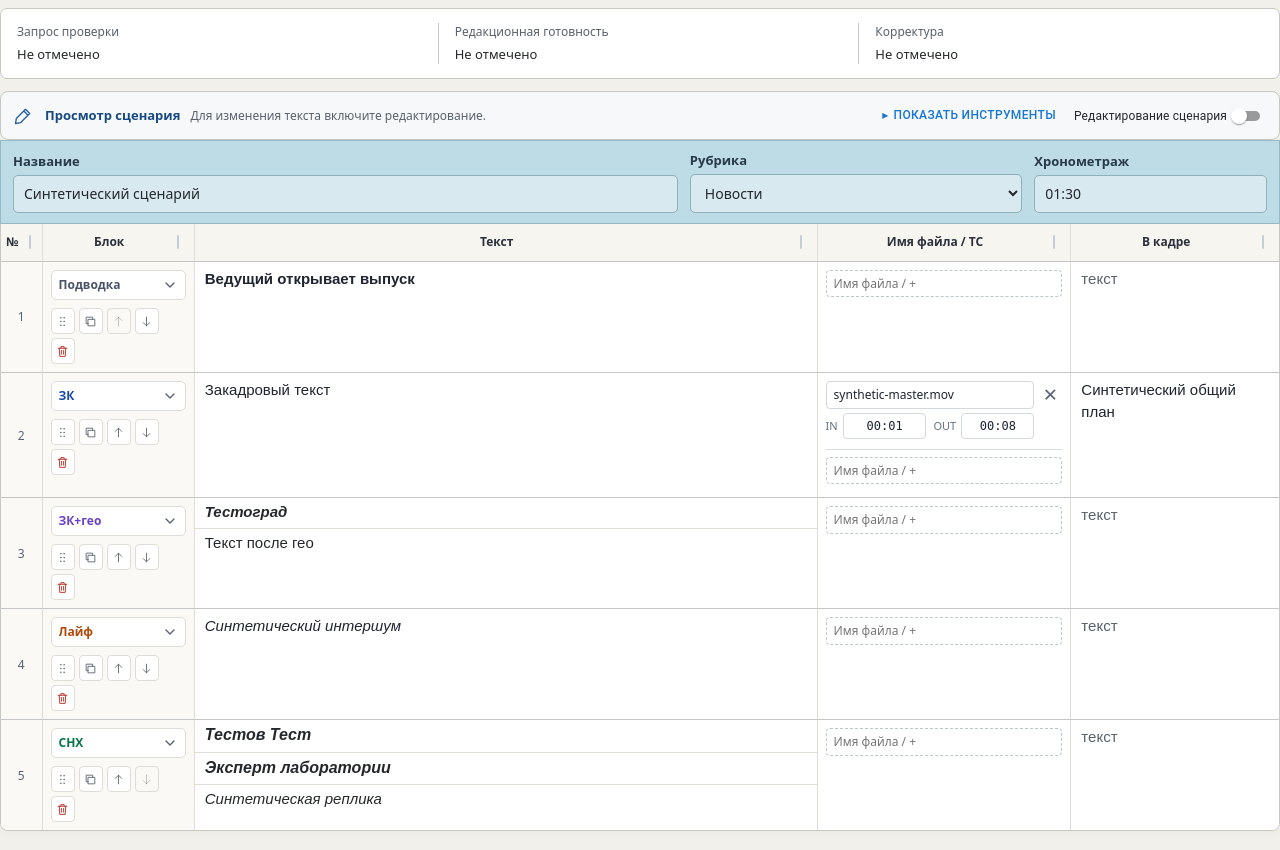
Test: ScenarioEditor current behavior characterization › preserves compact row selection, bulk delete and type-specific add buttons
The image size is (1280, 850).
Click the switch labelled "Редактирование сценария". click: (1170, 116)
box: [1074, 104, 1267, 128]
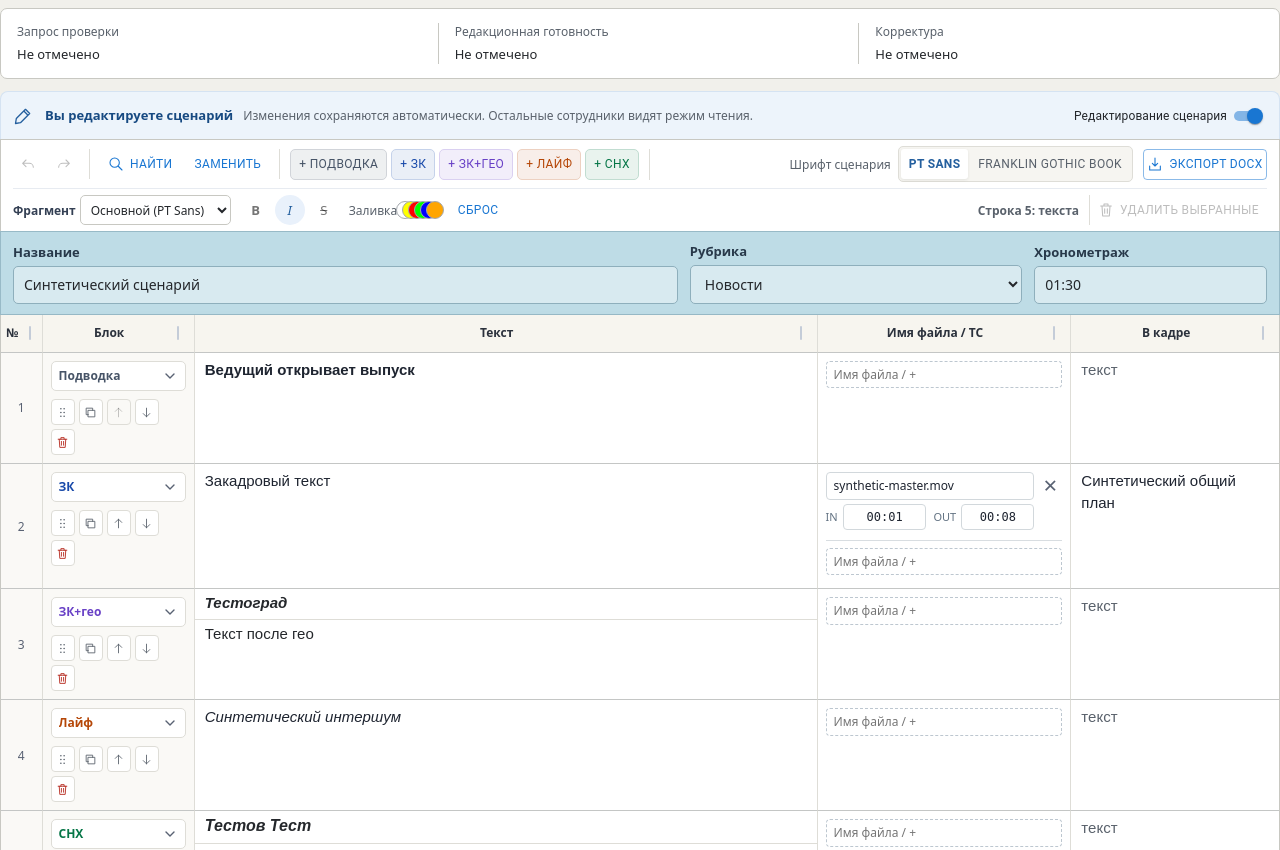
Result: the switch labelled "Редактирование сценария" is checked at [1074, 104, 1267, 128]
Result: the button "Удалить выбранные" is disabled at [1089, 195, 1267, 225]
Click the row "1 Ведущий открывает выпуск". click: (640, 409)
box: [1, 353, 1279, 464]
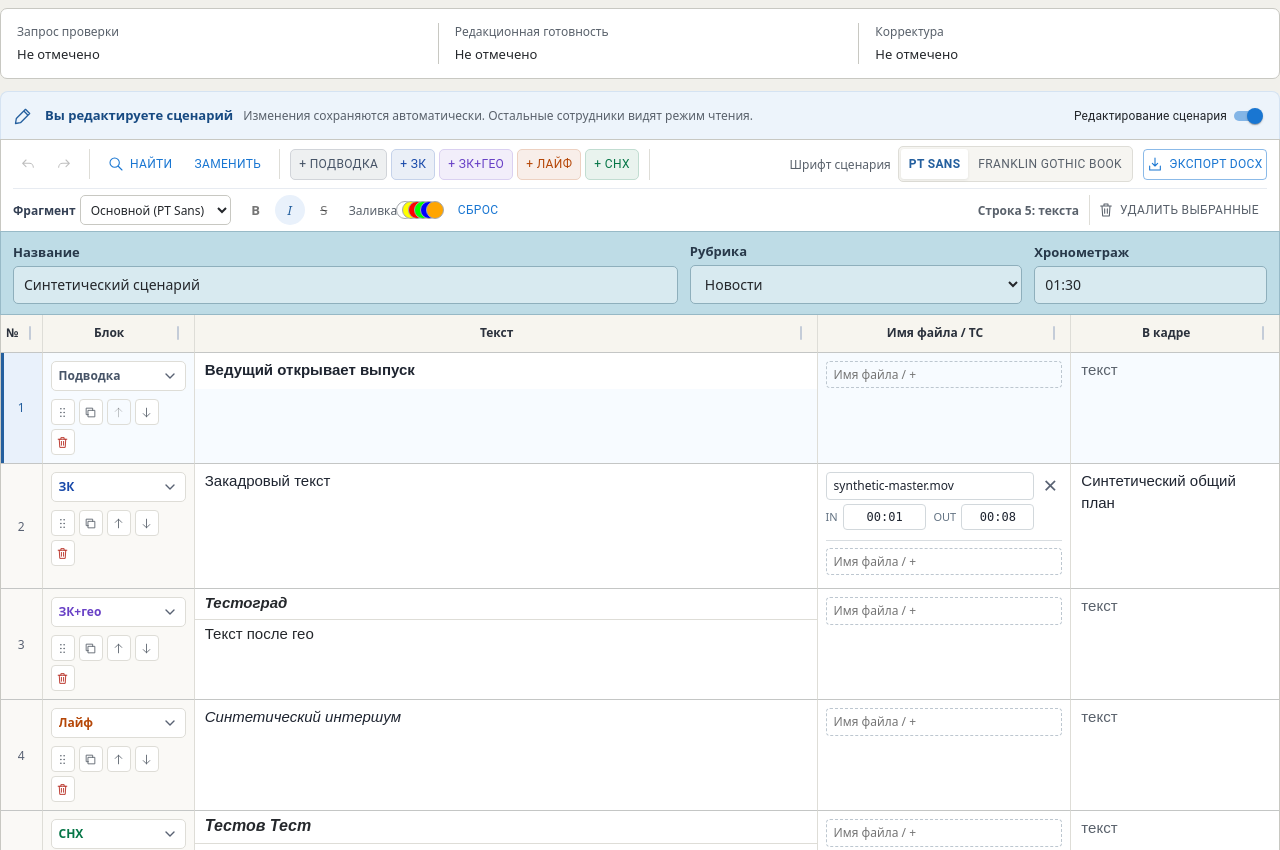
Result: the button "+ Подводка" is shown at [290, 149, 387, 180]
Result: the button "+ ЗК" is shown at [391, 149, 435, 180]
Result: the button "Удалить выбранные" is enabled
Click the button "Удалить выбранные". click: (1178, 210)
box: [1089, 195, 1267, 225]
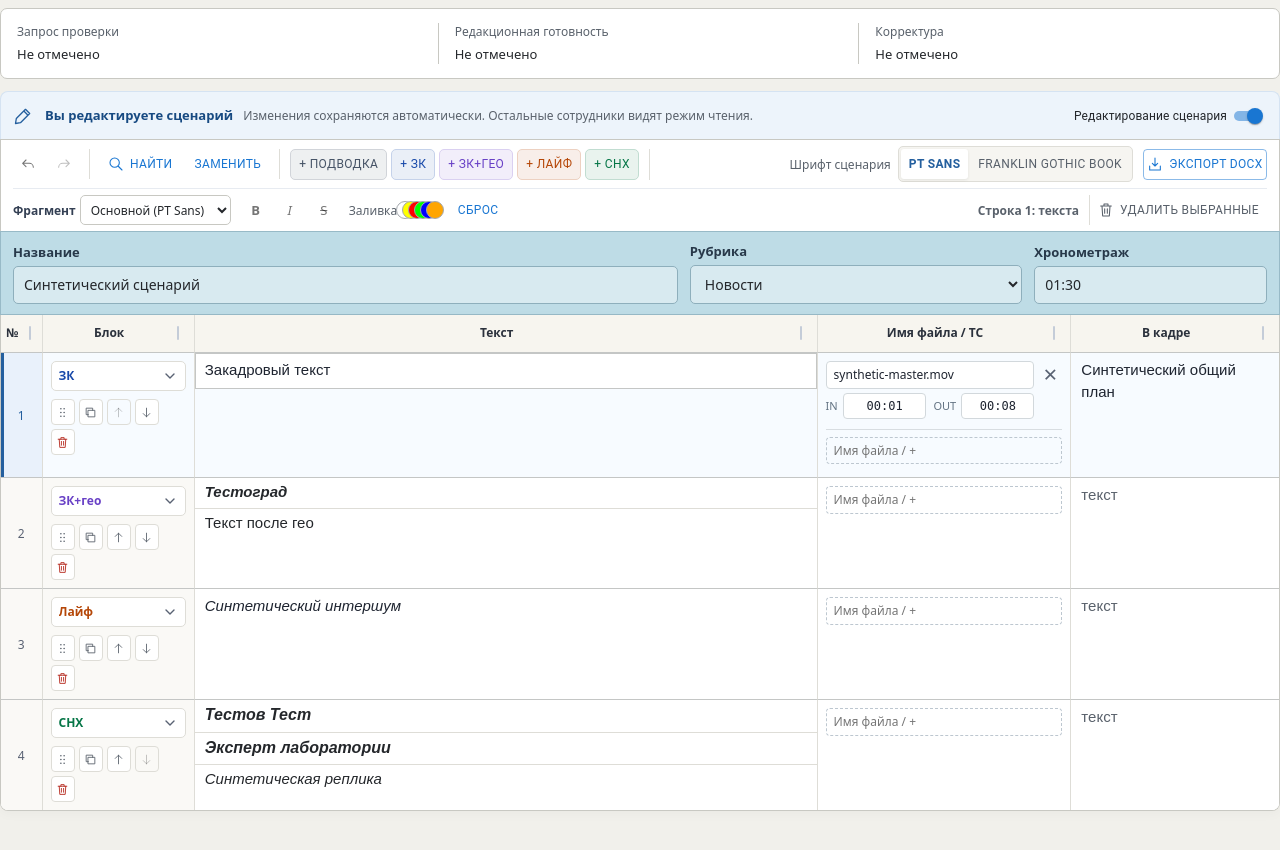
Result: the number of rows is 5 at [1, 315, 1279, 353]; [1, 353, 1279, 478]; [1, 478, 1279, 590]; [1, 590, 1279, 700]; [1, 700, 1279, 810]
Result: the field "Ведущий открывает выпуск" is gone
